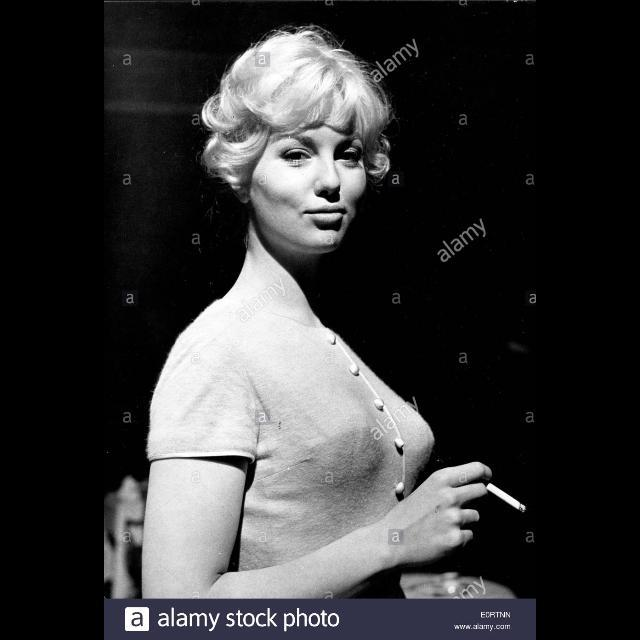rokok: (485, 478, 527, 514)
